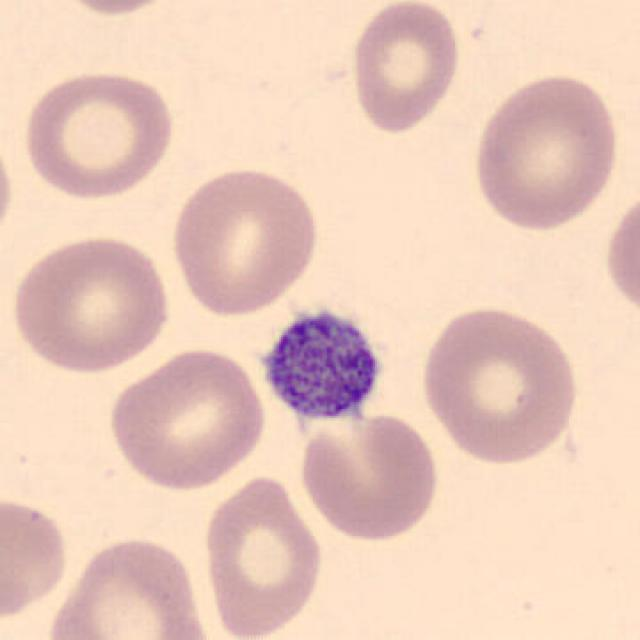Platelets: (254, 301, 393, 429)
RBC: (416, 302, 583, 467), (468, 69, 624, 234), (105, 342, 270, 494), (167, 162, 324, 319), (7, 231, 176, 376), (197, 470, 327, 640), (18, 67, 180, 201), (292, 402, 442, 545), (43, 532, 217, 640), (347, 0, 464, 136), (0, 490, 73, 626), (601, 185, 640, 326), (41, 0, 187, 18), (0, 122, 18, 256)
